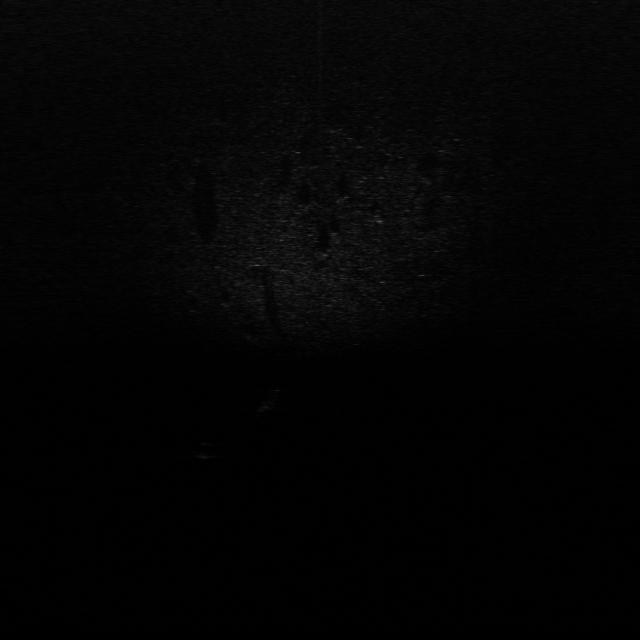ball: (187, 437, 222, 464)
human body: (256, 382, 286, 419)
